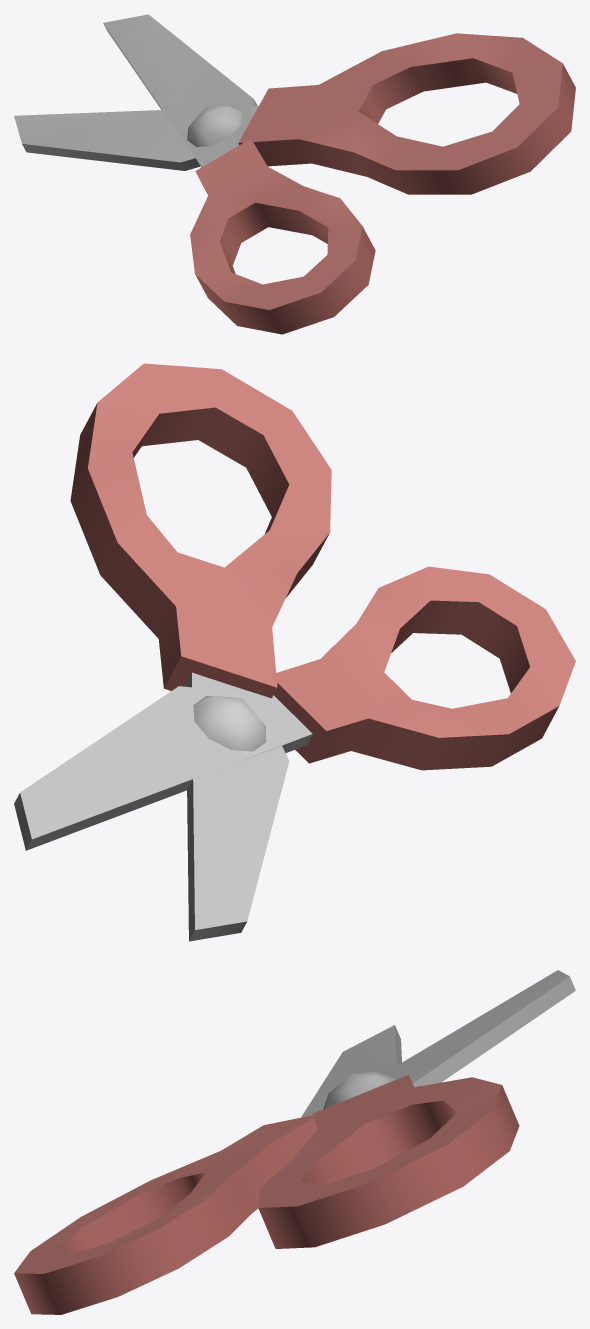
Rendered from ScissorsB.glb.
3 renders of one model, top to bottom at view 1: azimuth 30°, elevation 25°; view 2: azimuth 150°, elevation 25°; view 3: azimuth 330°, elevation 25°, orthographic. The views are drawn at different scales.
Visible parts, largest first — view 1: ScissorsB; view 2: ScissorsB; view 3: ScissorsB.
Boxes of the visible parts, x1=… form: ScissorsB: x1=14, y1=14, x2=575, y2=334; ScissorsB: x1=14, y1=363, x2=575, y2=941; ScissorsB: x1=14, y1=970, x2=575, y2=1314.
Size of the model in its own units: 0.1768 by 0.0978 by 0.276.
